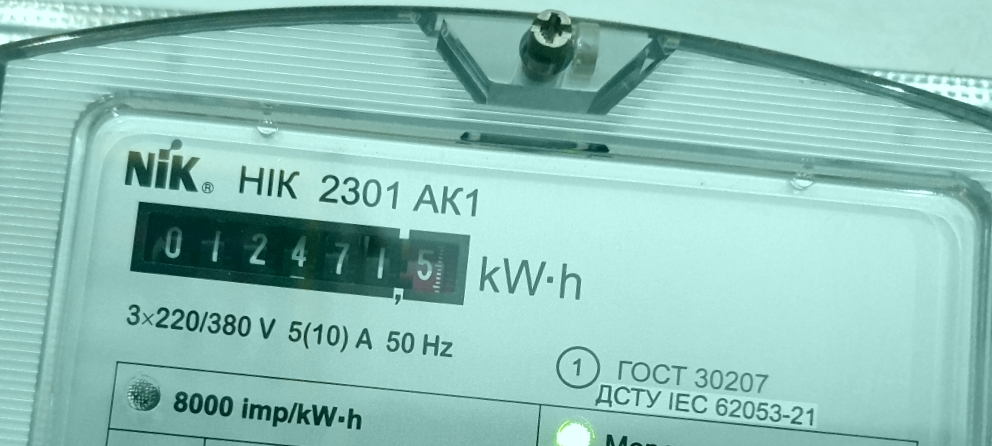0: (158, 222, 186, 260)
1: (207, 227, 223, 264), (372, 243, 387, 281)
2: (246, 229, 271, 268)
4: (287, 231, 310, 270)
5: (412, 243, 438, 284)
7: (326, 237, 351, 278)
screen: (117, 182, 484, 323)
